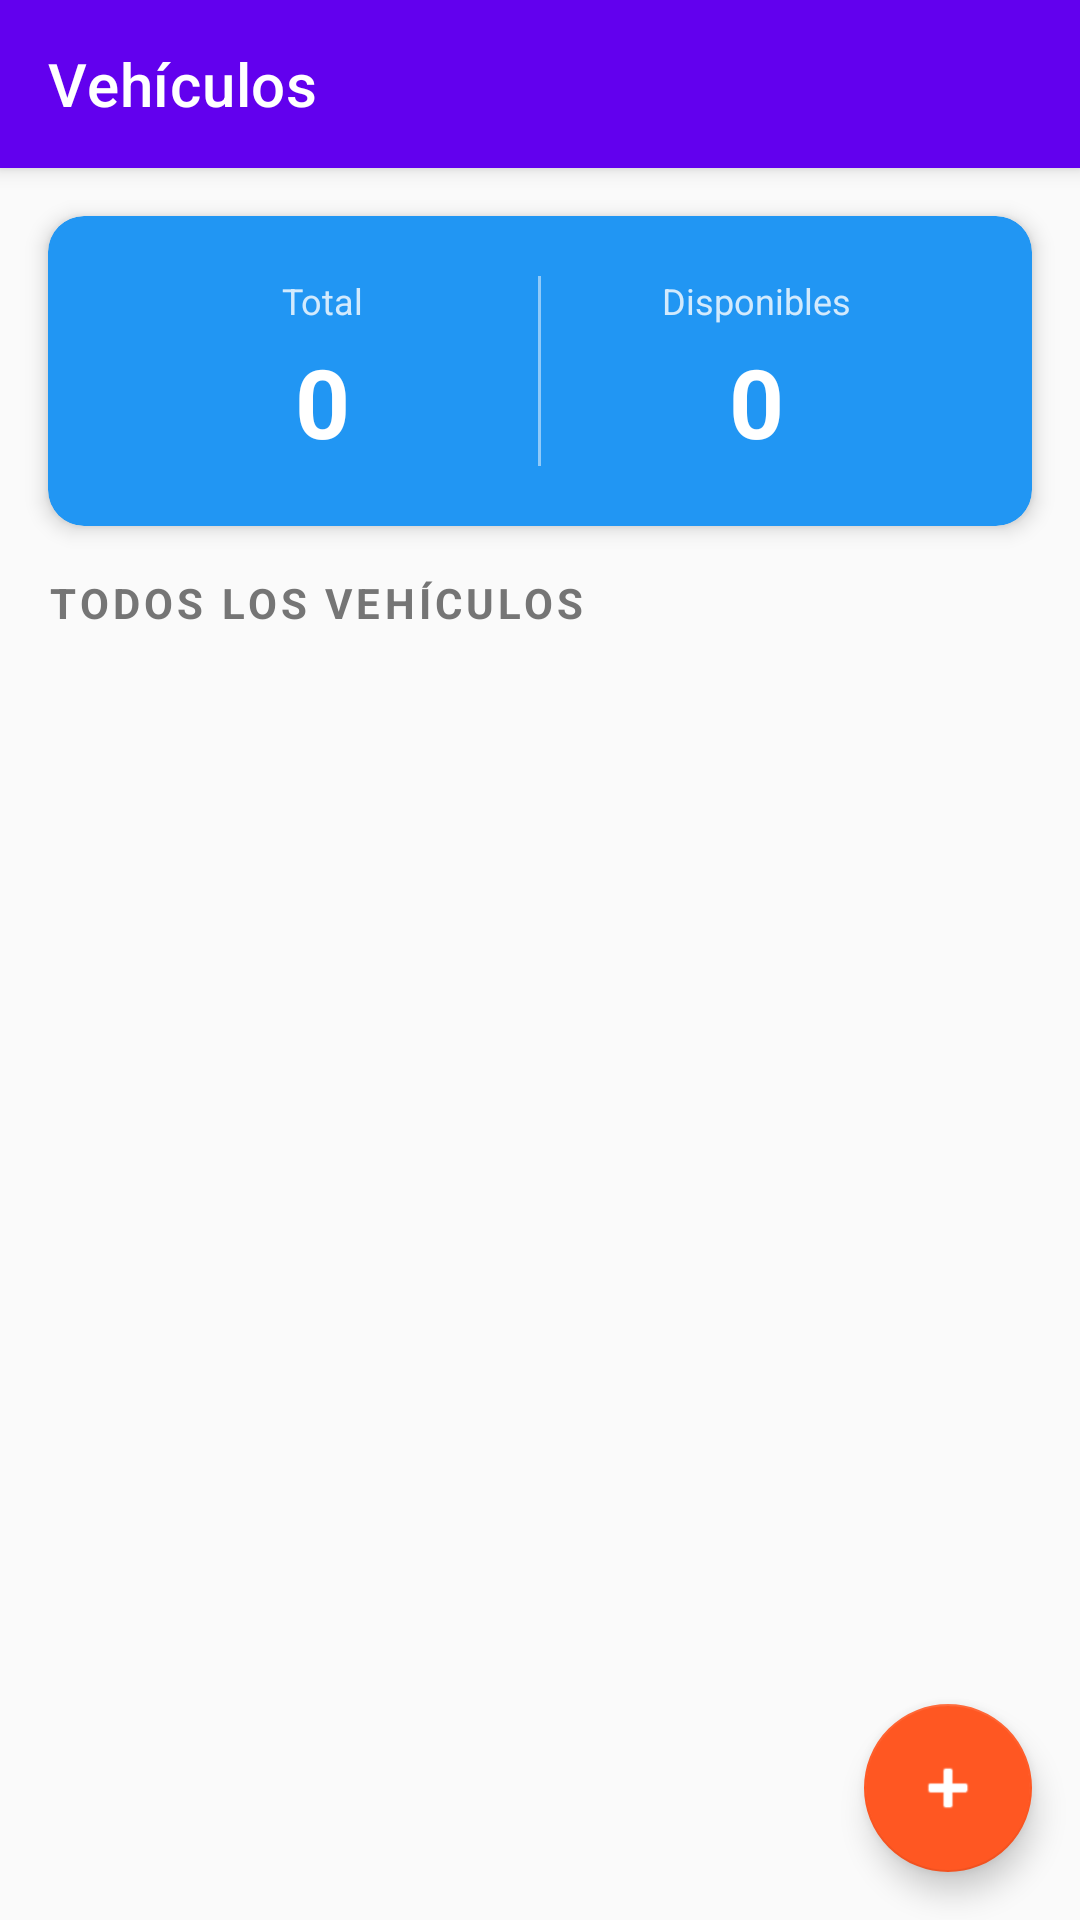

Icon bounding boxes for this 1080px×1920px phone screenshot, format (x1, y1, x2, y2):
Añadir vehículo: (864, 1704, 1032, 1872)
